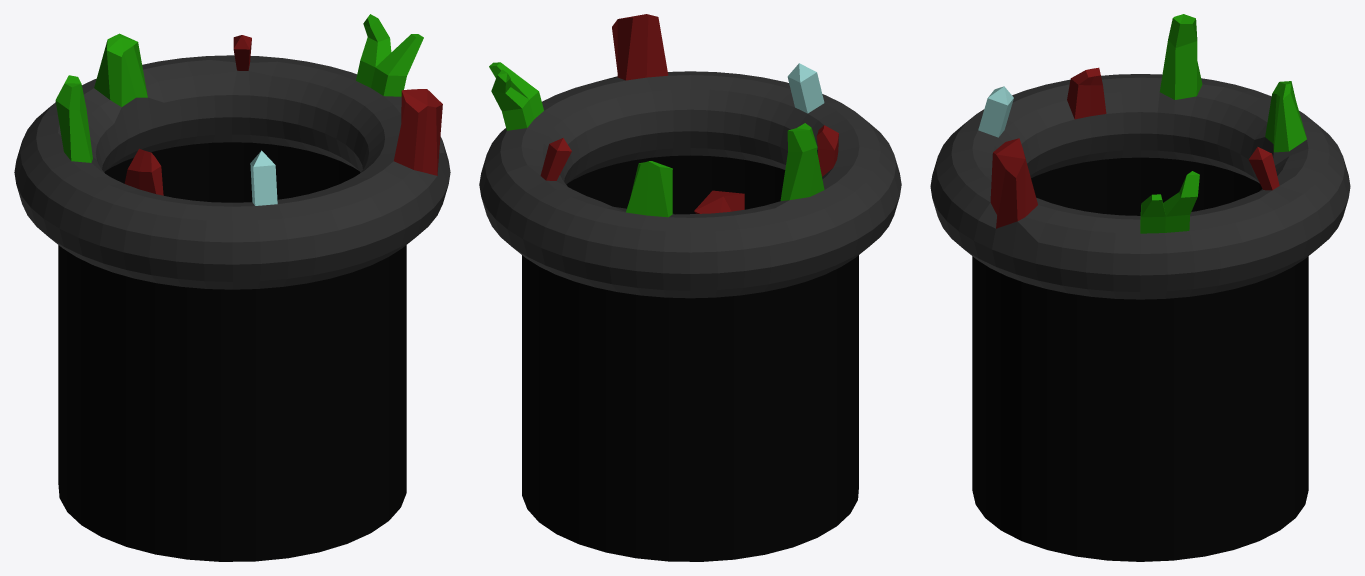
The model's file is yourhole.fbx.
3 renders of one model, left to right at view 1: azimuth 30°, elevation 25°; view 2: azimuth 150°, elevation 25°; view 3: azimuth 270°, elevation 25°, orthographic. The views are drawn at different scales.
Parts seen in each view (by area): view 1: Cylinder, Torus; view 2: Cylinder, Torus; view 3: Cylinder, Torus.
Part boxes in pixels (<box>): Cylinder: <box>58,142,406,561</box>; Torus: <box>14,14,450,289</box>; Cylinder: <box>522,155,858,561</box>; Torus: <box>479,14,901,298</box>; Cylinder: <box>972,157,1308,561</box>; Torus: <box>930,14,1350,299</box>.
Size of the model in its own units: 256 by 269 by 250.
